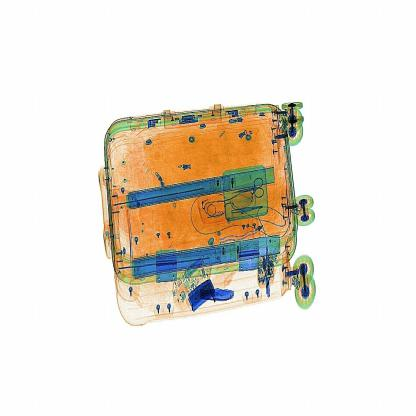knife: (199, 287, 239, 309)
